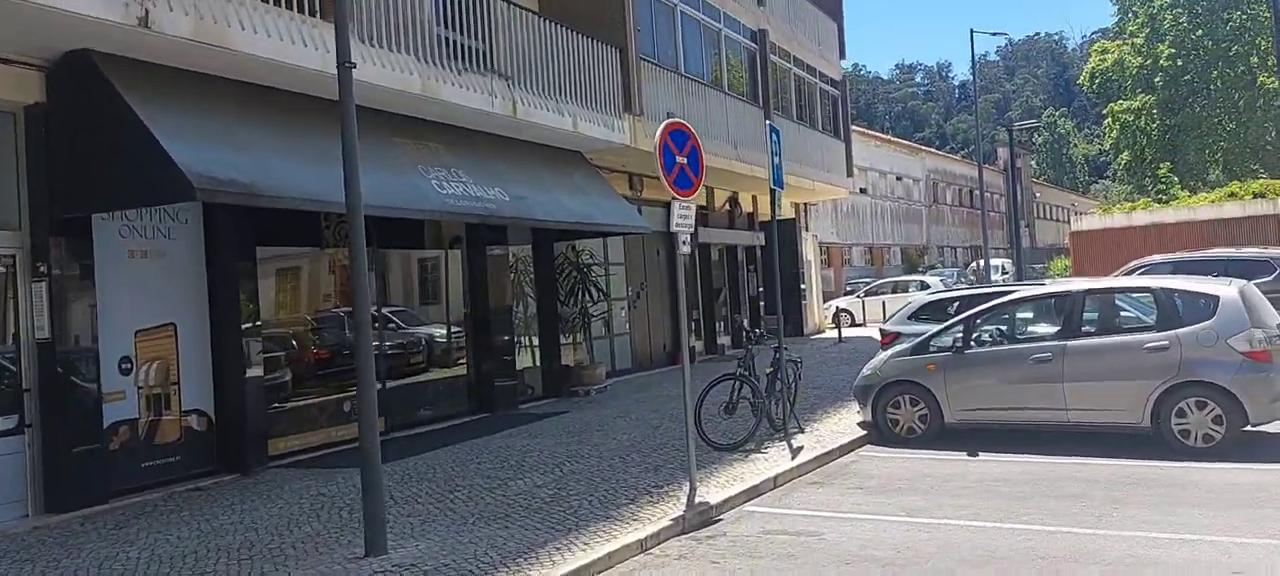paragem e estacionamento proibido: (643, 112, 716, 206)
